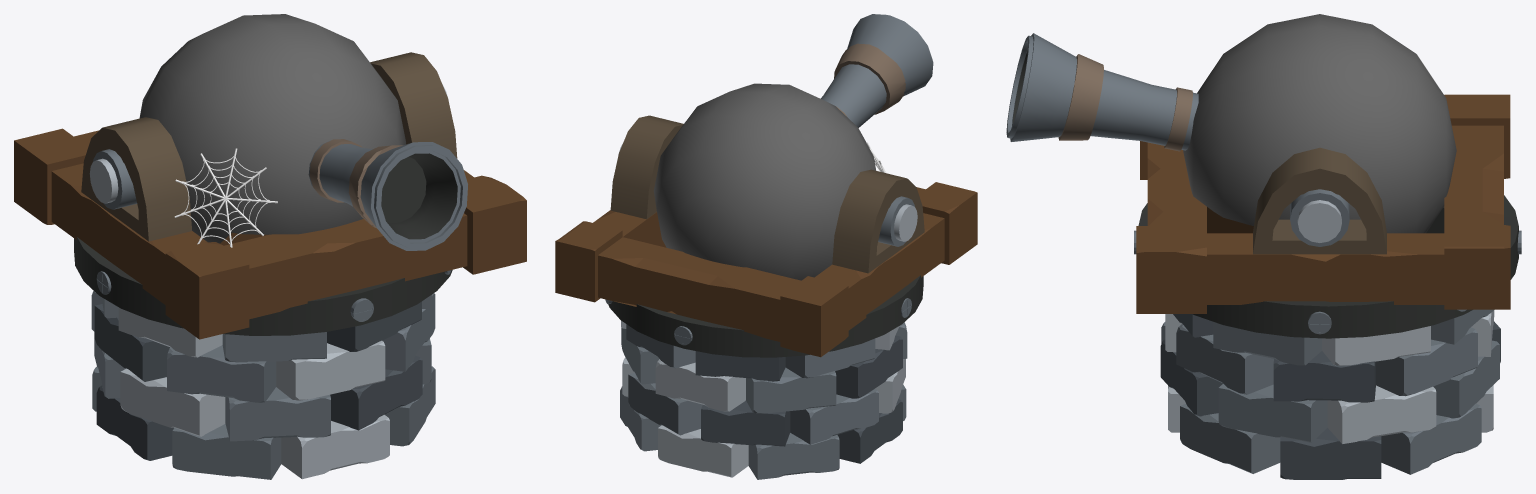
Rendered from Turret1.fbx.
The picture shows the model from 3 angles, left to right: view 1: azimuth 30°, elevation 25°; view 2: azimuth 150°, elevation 25°; view 3: azimuth 270°, elevation 25°; orthographic projection. The views are drawn at different scales.
Visible parts, largest first — view 1: Sphere, Mid2, Bottom1.002, Bottom1, Bottom1.001, Cannon, Mid1, HolderLeft1, Bottom1.003, HolderRight1, Cobweb, HolderLeft2 (+1 smaller); view 2: Sphere, Mid2, Bottom1.001, Bottom1.002, Bottom1, Cannon, Mid1, HolderLeft1, Bottom1.003, HolderRight1, HolderLeft2, Screw; view 3: Sphere, Mid2, Cannon, Bottom1.001, Bottom1, Bottom1.002, HolderRight1, Mid1, Bottom1.003, HolderRight2, Screw.
Part boxes in pixels (x1,y1,x2,y2): Sphere: (139, 14, 405, 243); Mid2: (14, 128, 526, 339); Bottom1.002: (91, 290, 435, 402); Bottom1: (92, 366, 435, 479); Bottom1.001: (94, 332, 431, 441); Cannon: (308, 139, 467, 250); Mid1: (74, 237, 452, 335); HolderLeft1: (81, 117, 191, 241); Bottom1.003: (101, 295, 431, 362); HolderRight1: (370, 52, 457, 158); Cobweb: (174, 148, 277, 247); HolderLeft2: (89, 149, 137, 209); Sphere: (653, 83, 875, 280); Mid2: (555, 182, 977, 357); Bottom1.001: (622, 357, 905, 446); Bottom1.002: (621, 322, 907, 413); Bottom1: (620, 384, 906, 479); Cannon: (820, 14, 933, 127); Mid1: (608, 275, 923, 357); HolderLeft1: (832, 169, 924, 273); Bottom1.003: (621, 320, 899, 381); HolderRight1: (610, 115, 683, 219); HolderLeft2: (878, 196, 917, 246); Screw: (605, 298, 911, 345); Sphere: (1183, 14, 1456, 233); Mid2: (1136, 94, 1510, 313); Cannon: (1006, 33, 1198, 151); Bottom1.001: (1160, 321, 1500, 443); Bottom1: (1168, 385, 1493, 479); Bottom1.002: (1165, 310, 1494, 402); HolderRight1: (1253, 147, 1386, 254); Mid1: (1138, 195, 1518, 338); Bottom1.003: (1173, 309, 1494, 365); HolderRight2: (1290, 189, 1349, 246); Screw: (1134, 230, 1521, 334).
Size of the model in its own units: 198 by 217 by 263.
